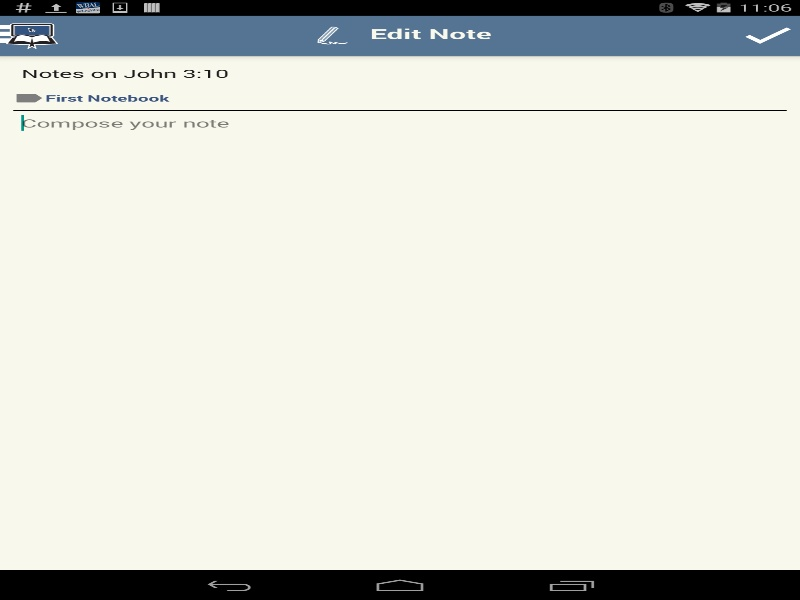Input: (13, 111, 786, 563), (13, 61, 786, 84)
